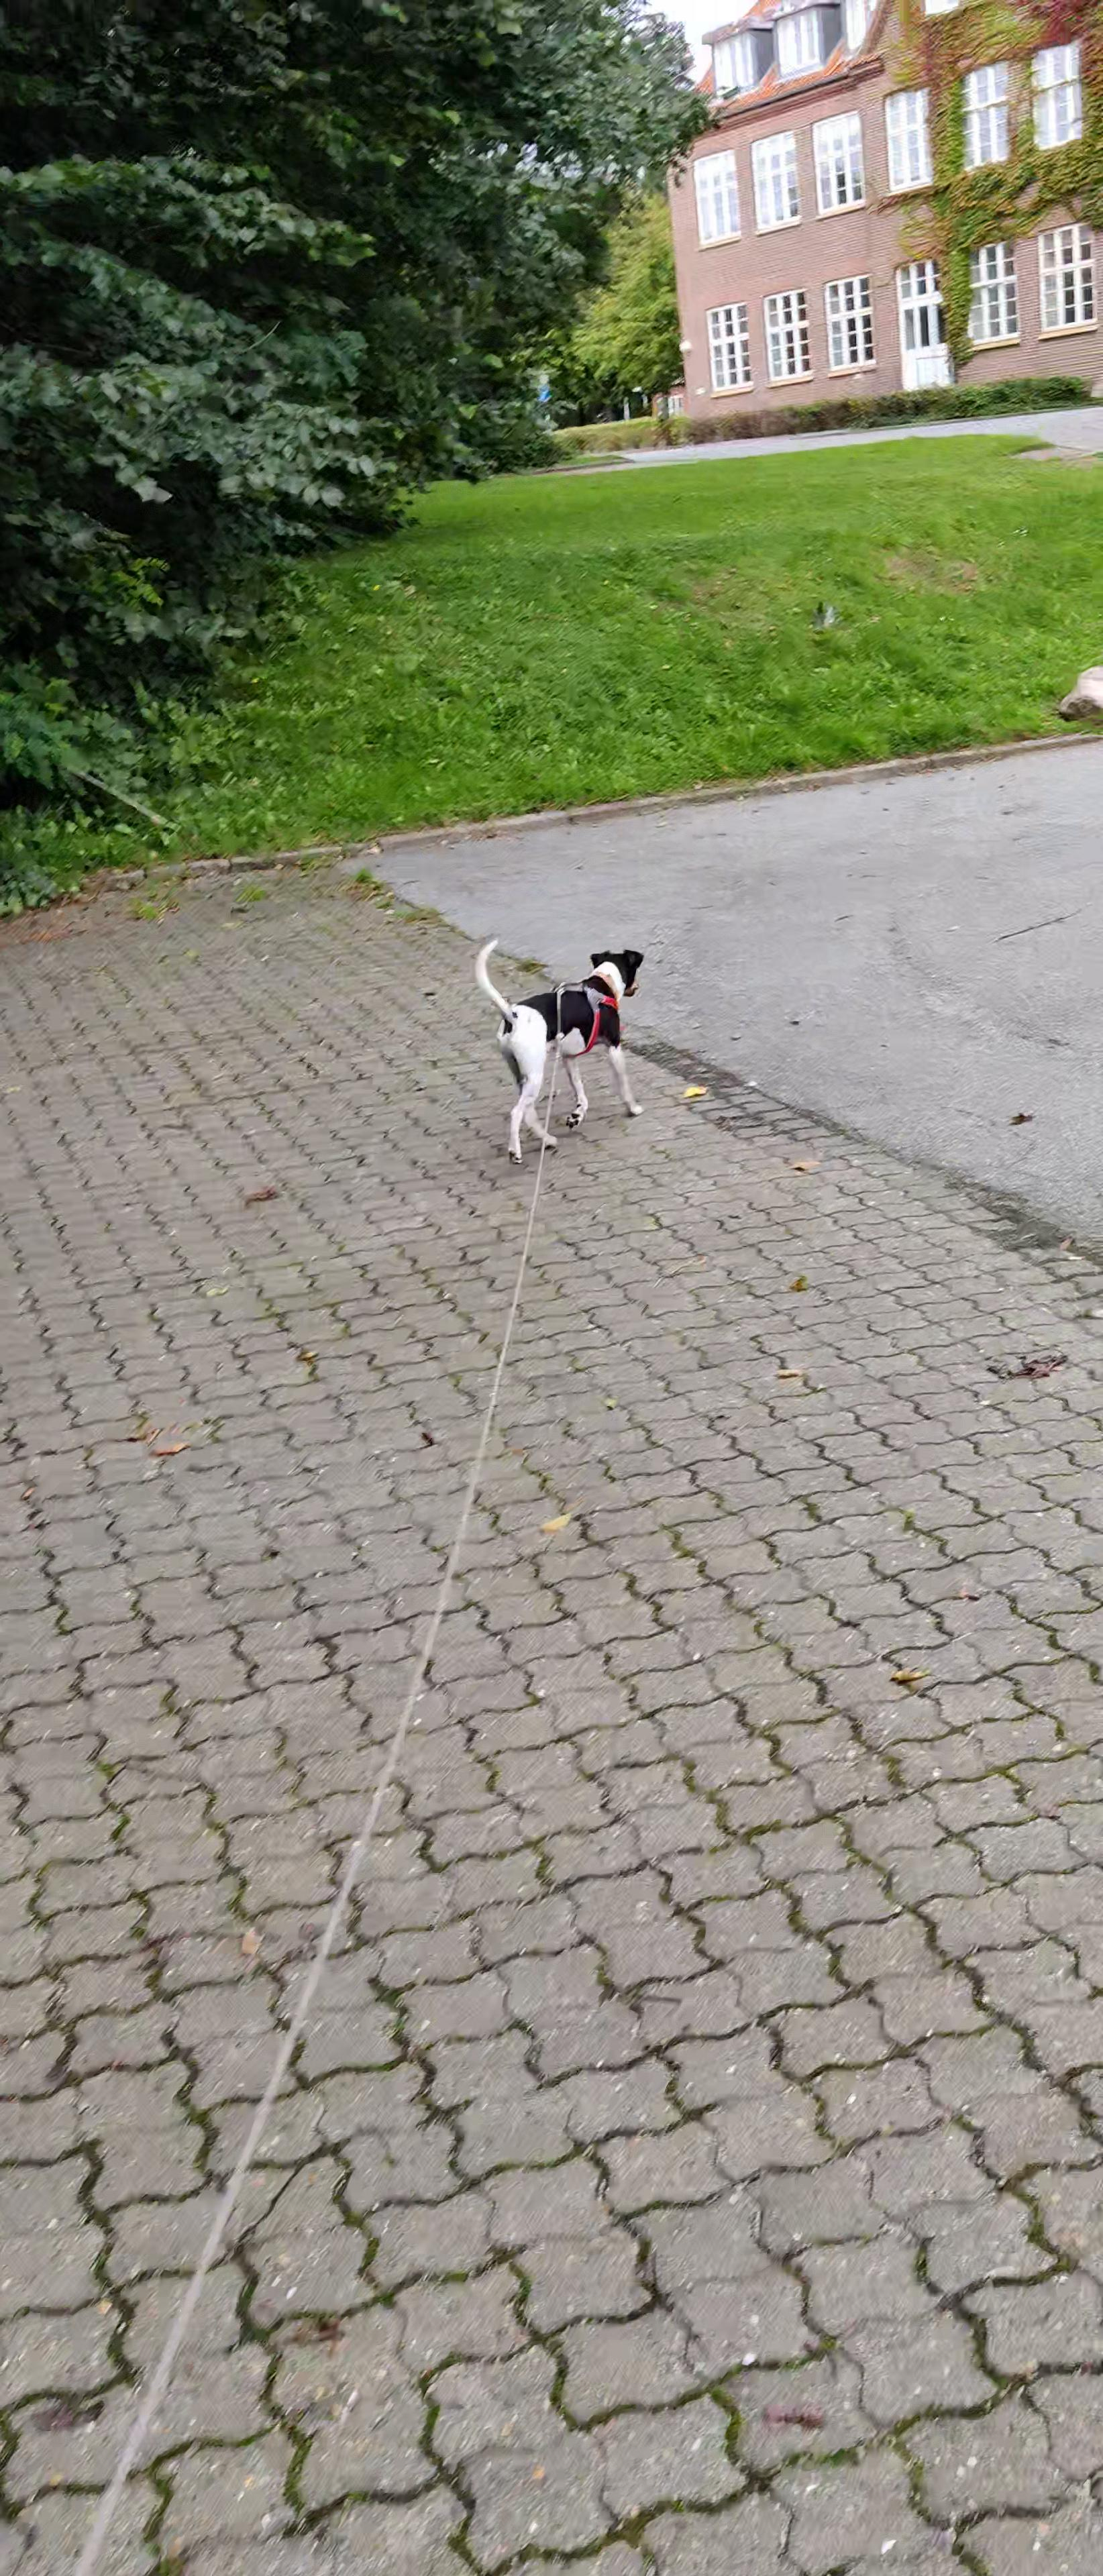Dog: (460, 927, 669, 1168)
